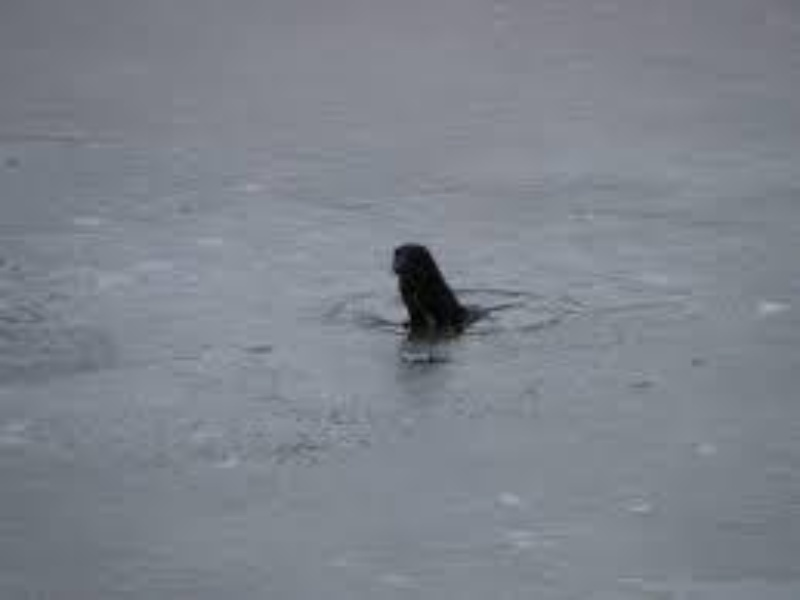minkish: (390, 243, 478, 336)
